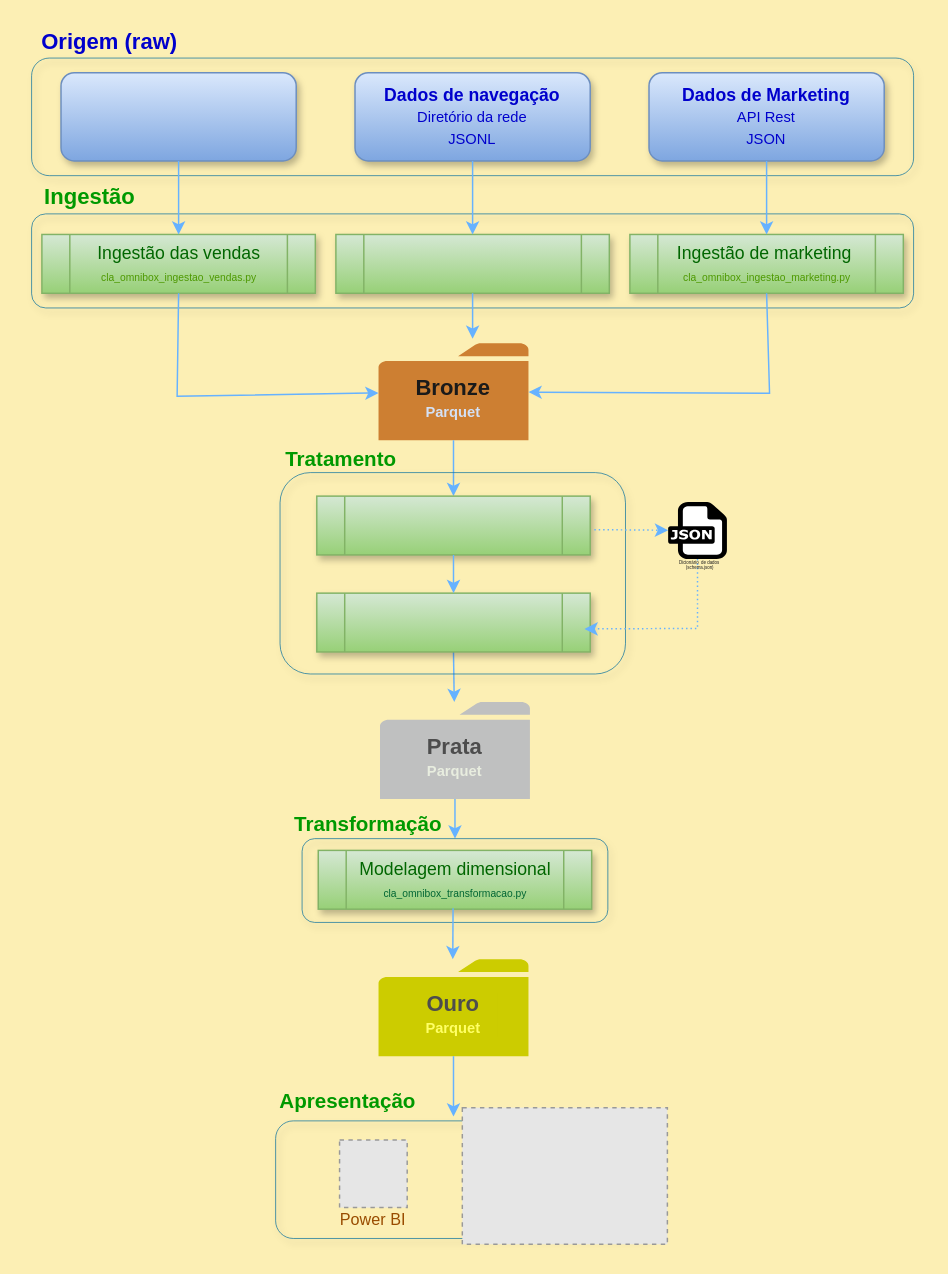
This 948x1274 diagram has some shape labels left out. Grey dashed boxes stand in for pictures. Here are the shapes that lost their labels. From the top down, the centre of each, then its label:
At (x=179, y=118): "Dados de Vendas Banco Relacional SQLITE".
At (x=473, y=265): "Ingestão das navegações cla_omnibox_ingestao_analytics.py".
At (x=454, y=527): "Exploração (EDA) cla_omnibox_tratamento.ipynb".
At (x=454, y=624): "Tratamento dos dados cla_omnibox_tratamento.py".
